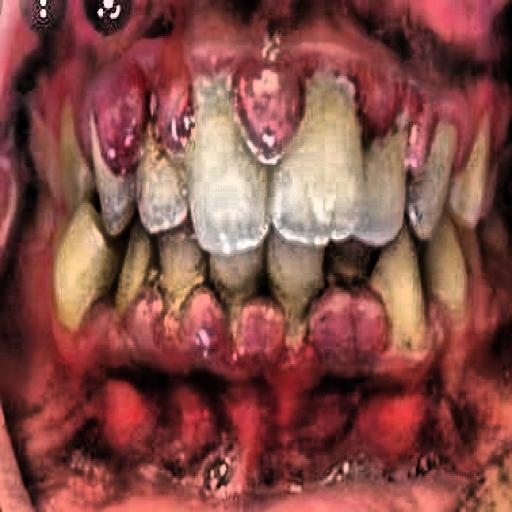Gingivitis: (40, 275, 413, 414), (41, 28, 328, 160), (342, 12, 510, 163)
